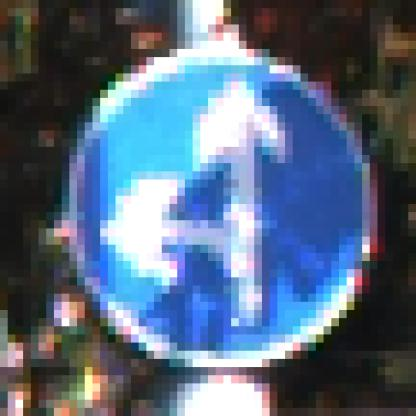Straight or Left: (47, 42, 371, 376)
